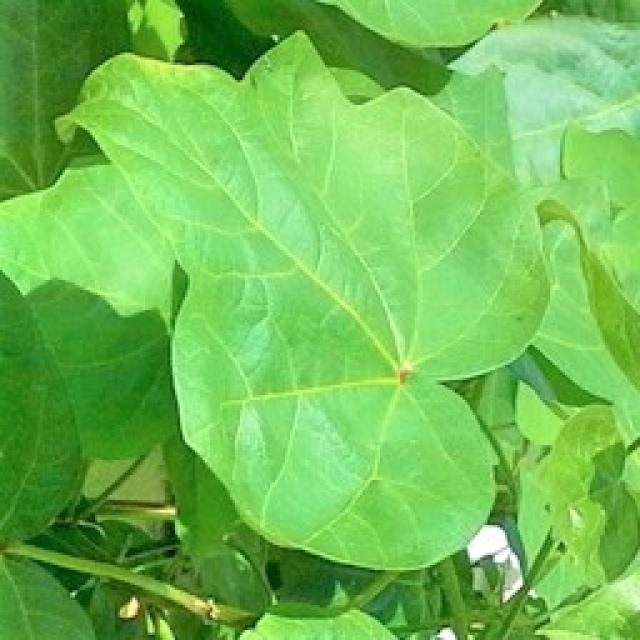Healthy Leaf: (26, 14, 622, 640)
